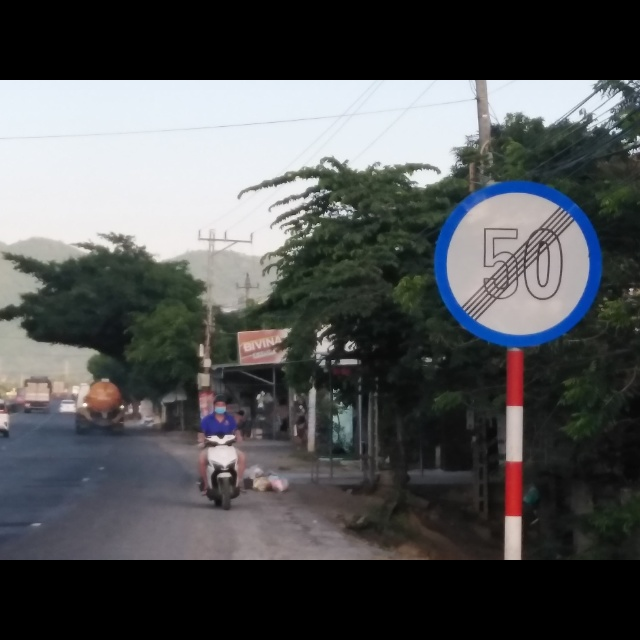Hết hạn chế tốc độ tối đa 50km/h: (432, 180, 604, 348)
